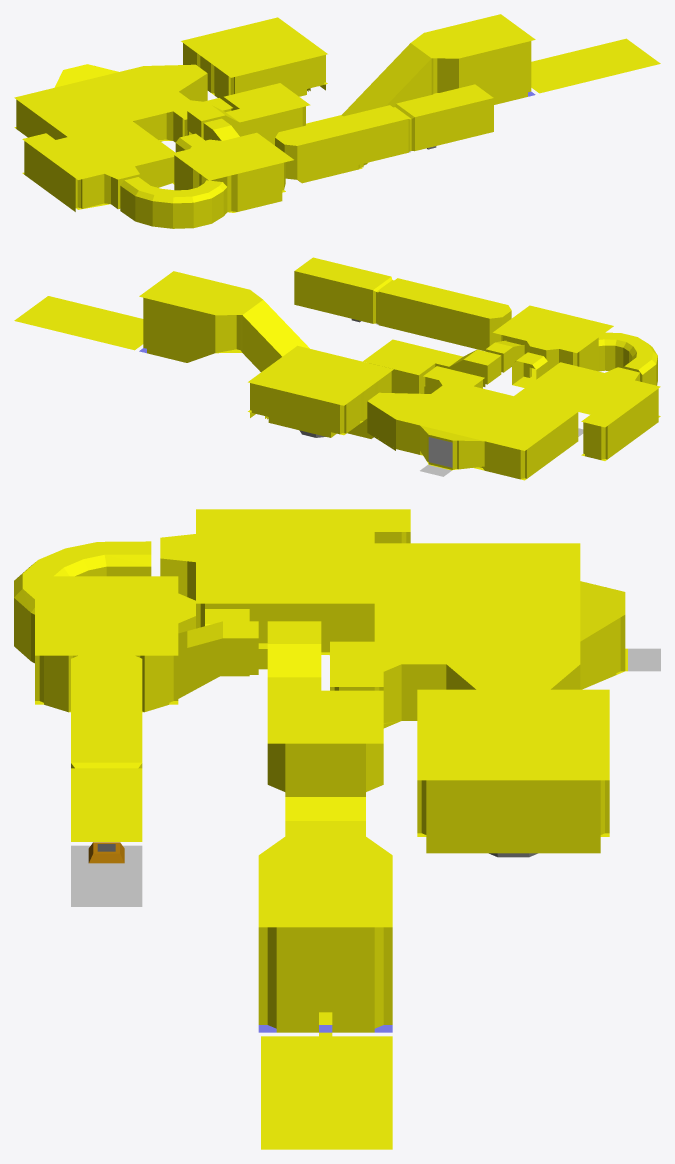
Rendered from inside_castle_segment7.0x73AAC.collision.obj.
3 views of the same model, one above another, from view 1: azimuth 30°, elevation 25°; view 2: azimuth 150°, elevation 25°; view 3: azimuth 270°, elevation 25° (orthographic). The views are drawn at different scales.
Parts seen in each view (by area): view 1: inside_castle_segment7_73AAC_normal; view 2: inside_castle_segment7_73AAC_normal, inside_castle_segment7_73AAC_72; view 3: inside_castle_segment7_73AAC_normal, inside_castle_segment7_73AAC_paintingfBB.
Boxes of the visible parts, left/top/right/bottom form: inside_castle_segment7_73AAC_normal: left=14, top=14, right=660, bottom=228; inside_castle_segment7_73AAC_normal: left=14, top=257, right=660, bottom=480; inside_castle_segment7_73AAC_72: left=428, top=437, right=452, bottom=467; inside_castle_segment7_73AAC_normal: left=14, top=509, right=627, bottom=1149; inside_castle_segment7_73AAC_paintingfBB: left=71, top=845, right=142, bottom=906.
Bounding box in the file's own units: 14.8 × 2.2 × 7.24.
